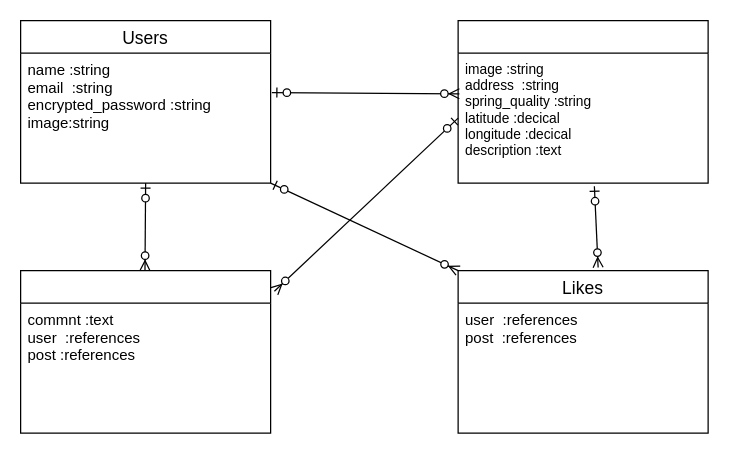
The diagram is 729 pixels wide and 454 high, and some of its shapes have lost their labels. The shapes that lost their labels are listed below. From the top down, each one's box as (x1, y1, x2, y2) in pixels, then its label:
(457, 19, 708, 183): Posts
(19, 269, 271, 433): Comments
